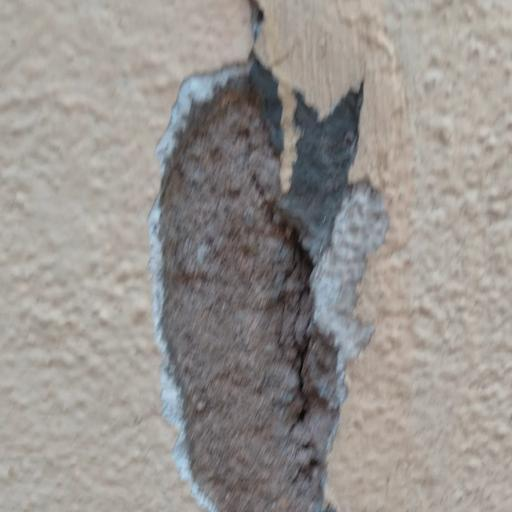spalling: (139, 33, 383, 512)
